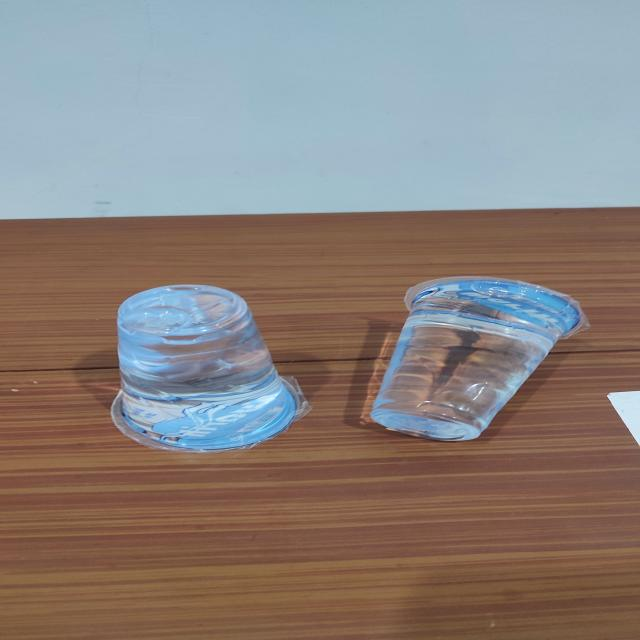air gelas: (355, 264, 595, 457), (90, 277, 326, 458)
